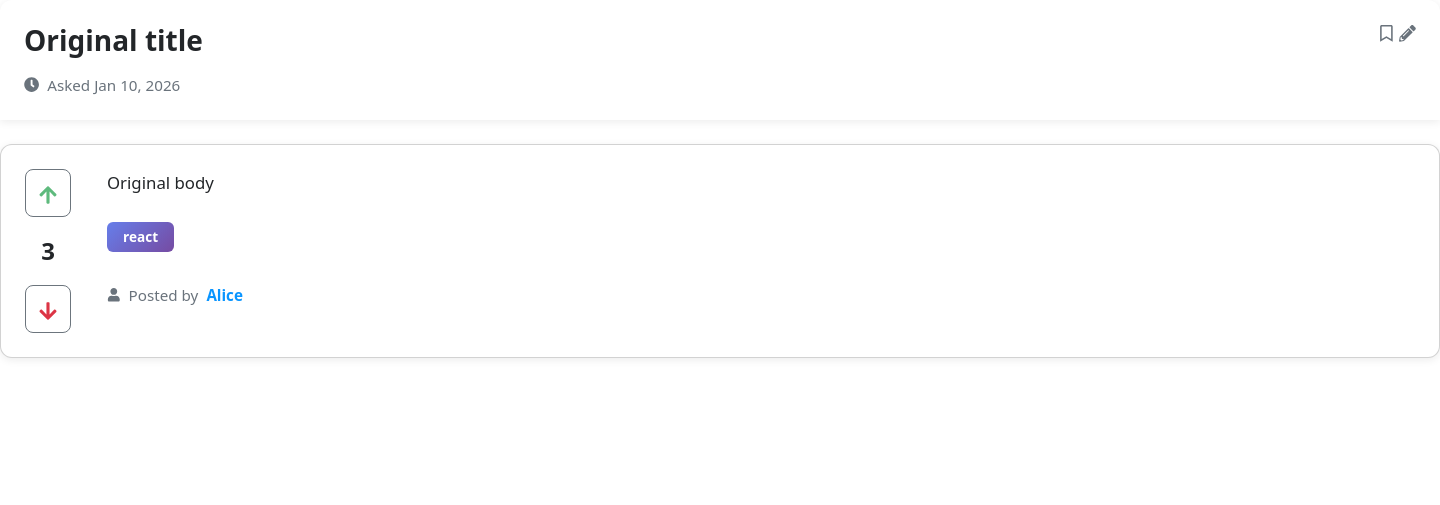
Feature 2 — question edit affordances › opens a pre-filled edit form and can cancel back
The width and height of the screenshot is (1440, 505).
Click the button named "Edit question".
click(1408, 33)  # box [1399, 24, 1416, 42]
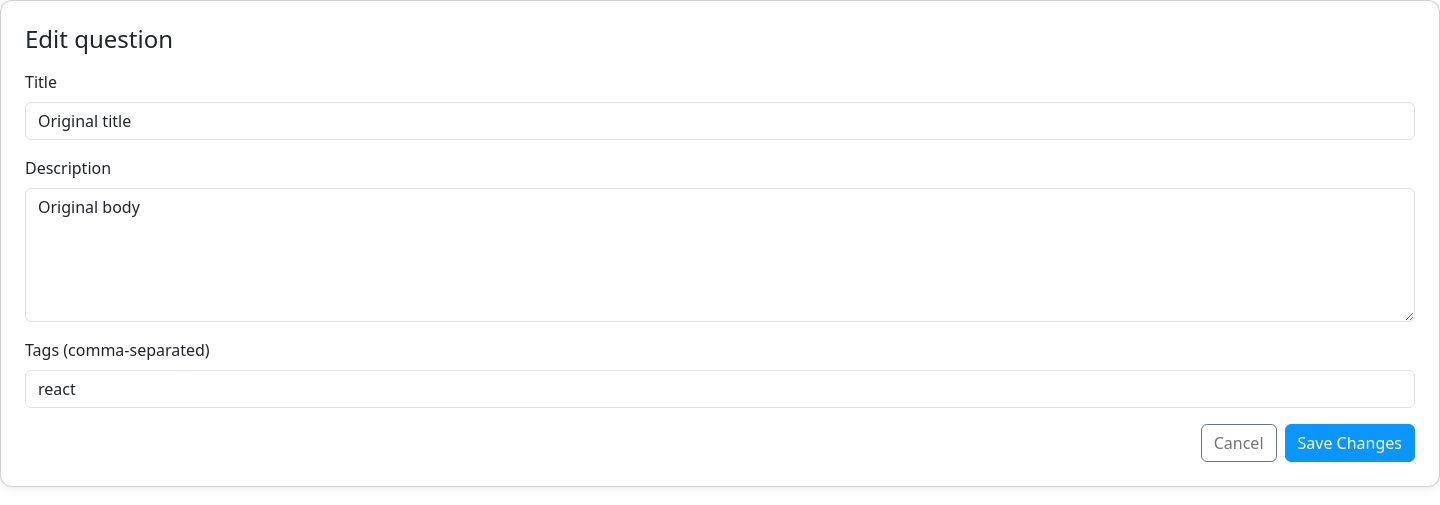
Expected: the field showing "Original title" below "Title" is shown, [25, 102, 1415, 140]
Expected: the text box showing "Original body" is shown, [25, 188, 1415, 322]
Expected: the field showing "react" below "Tags (comma-separated)" is shown, [25, 370, 1415, 408]
Click the button "Cancel".
click(1239, 443)  # box [1201, 424, 1276, 462]
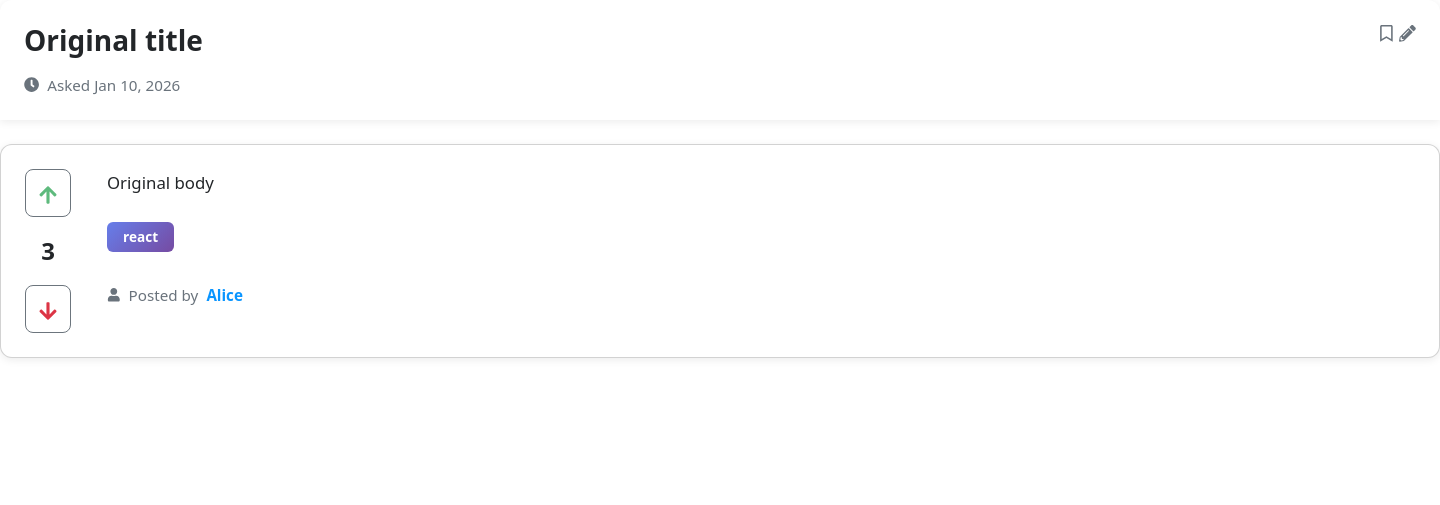
Expected: the heading "Original title" is shown, [24, 24, 203, 58]
